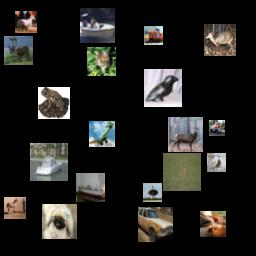airplane: (89, 121, 115, 147)
automobile: (138, 207, 173, 242)
bird: (144, 69, 182, 107), (207, 153, 226, 172), (143, 183, 162, 202)
cat: (87, 47, 116, 76)
deer: (163, 153, 201, 191), (168, 117, 203, 152), (204, 24, 236, 56), (4, 36, 33, 65)
dog: (42, 204, 77, 239), (200, 211, 226, 237)
frog: (38, 87, 70, 119)
ship: (30, 143, 68, 181), (80, 8, 115, 43), (76, 173, 105, 202)
truck: (144, 26, 163, 45), (209, 120, 225, 136)
